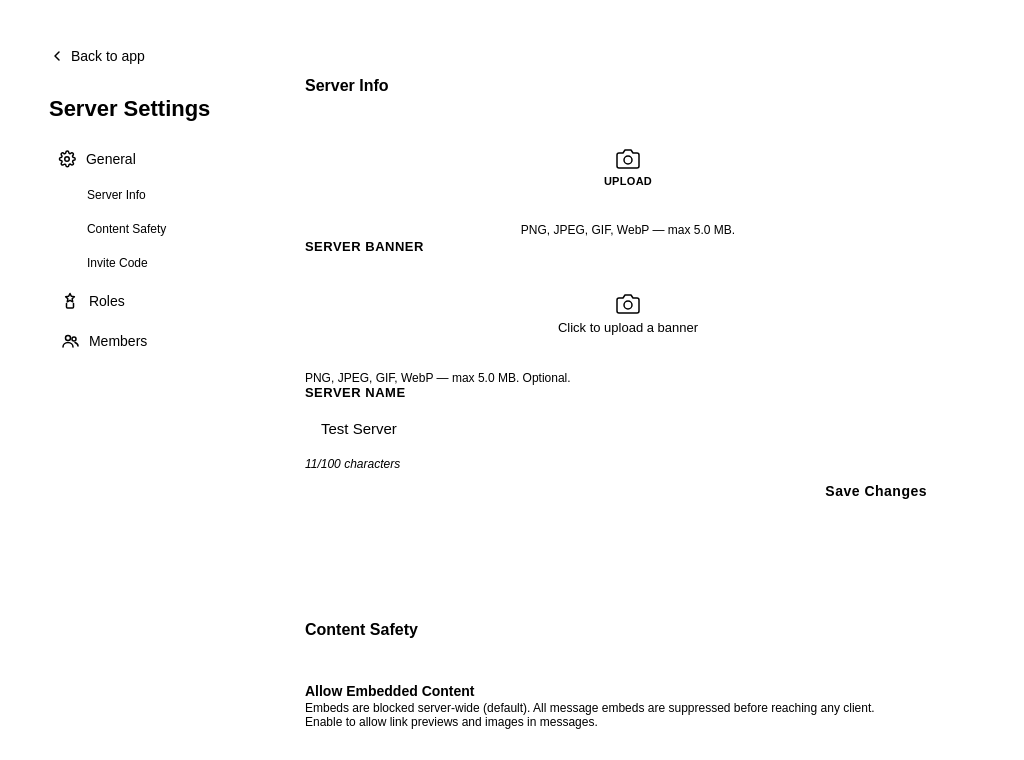
Test: a save that fails for another reason › treats a 403 that is not an MFA refusal as a plain failure
Click the button "Save Changes": (876, 491) [801, 471, 951, 511]
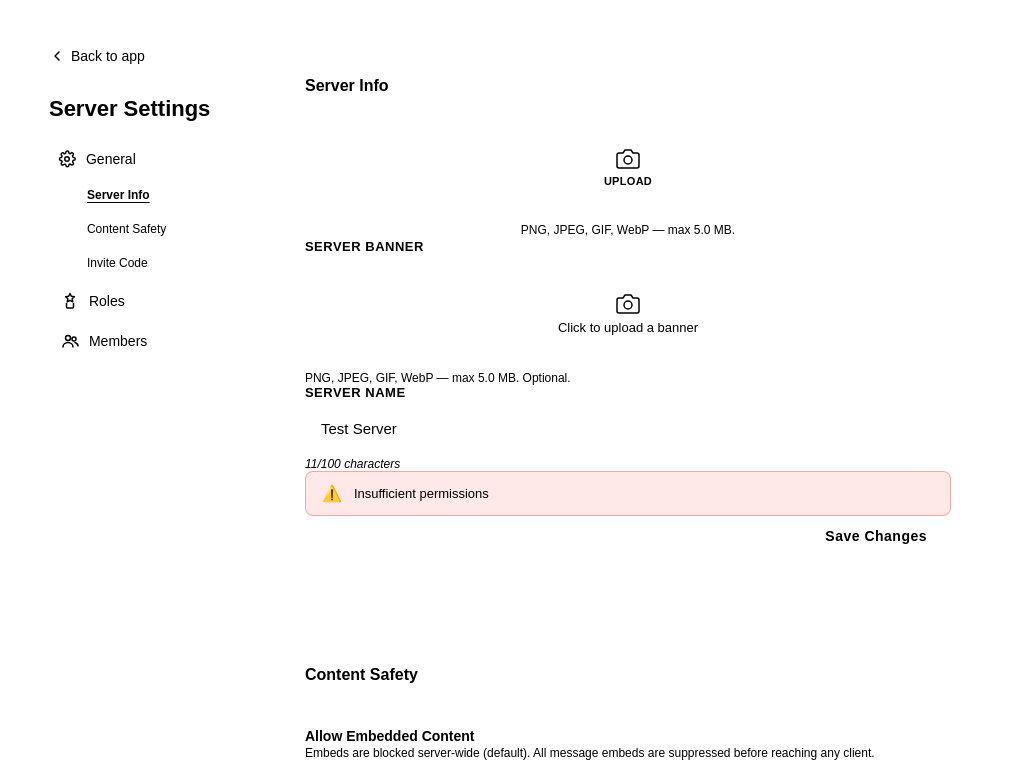
Expected: the text "Insufficient permissions" is shown, [354, 486, 489, 501]
